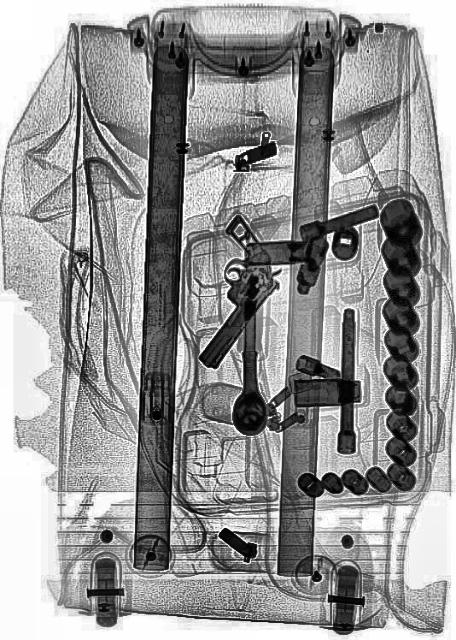Gun: (162, 210, 290, 378)
